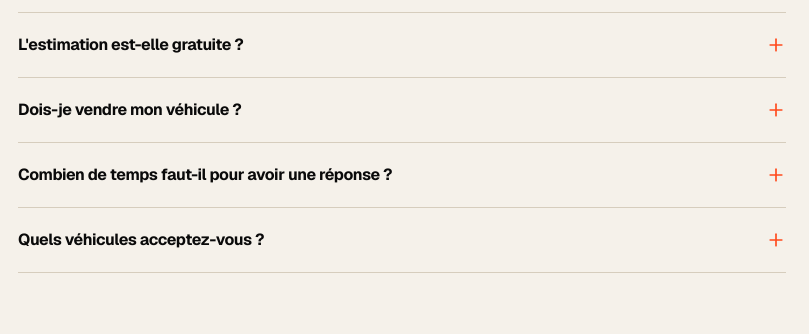
Test case: FAQAccordion › hides answers by default and reveals on click
expect the text "oui, l'estimation est 100% gratuite" is not shown: met
Step 1. Click the button "L'estimation est-elle gratuite ?" → x=131, y=44, box [18, 13, 786, 77]
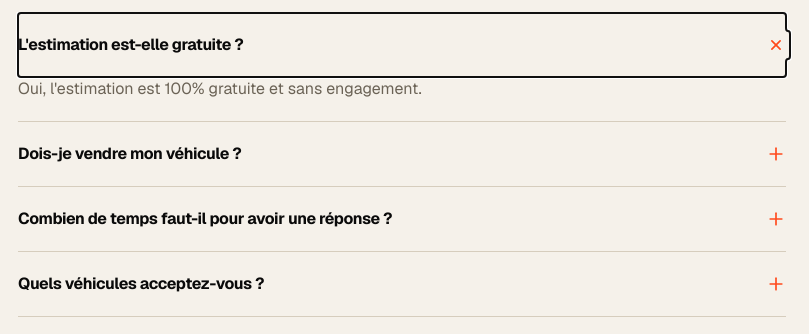
expect the text "Oui, l'estimation est 100% gratuite et sans engagement." is shown: met, box [18, 78, 422, 99]
